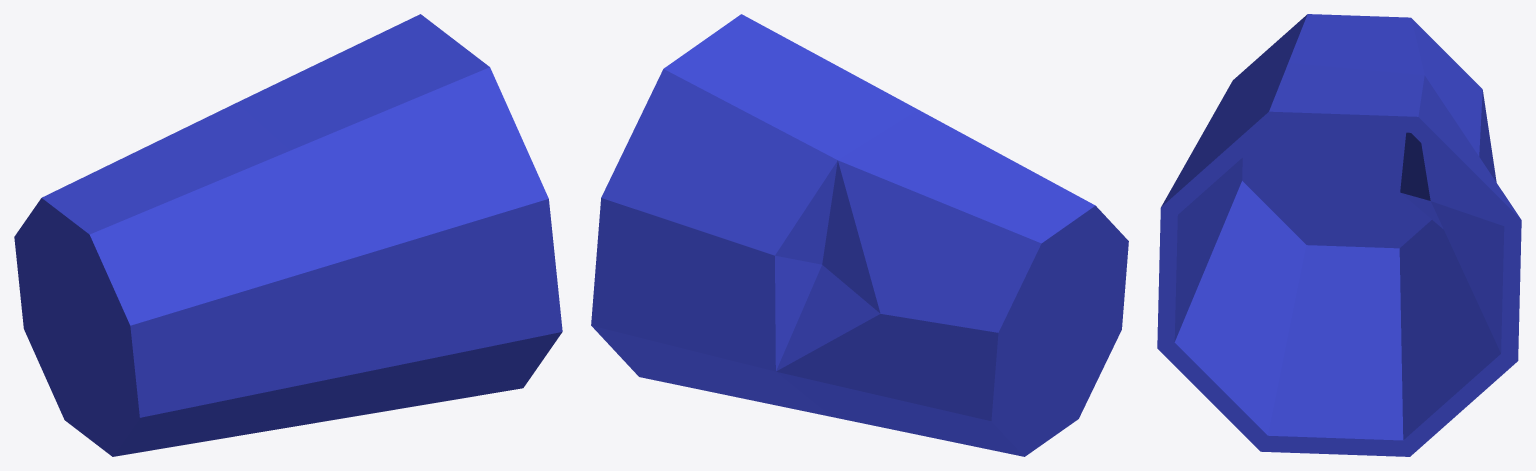
File: Blue_Dirty.fbx
3 views of the same model, side by side, from view 1: azimuth 30°, elevation 25°; view 2: azimuth 150°, elevation 25°; view 3: azimuth 270°, elevation 25° (orthographic). The views are drawn at different scales.
Visible parts, largest first — view 1: Blue_Dirty; view 2: Blue_Dirty; view 3: Blue_Dirty.
Part boxes in pixels (bbox=[...]): Blue_Dirty: bbox=[14, 14, 562, 456]; Blue_Dirty: bbox=[591, 14, 1128, 456]; Blue_Dirty: bbox=[1157, 14, 1521, 456].
Size of the model in its own units: 58.57 by 44.16 by 44.39.
